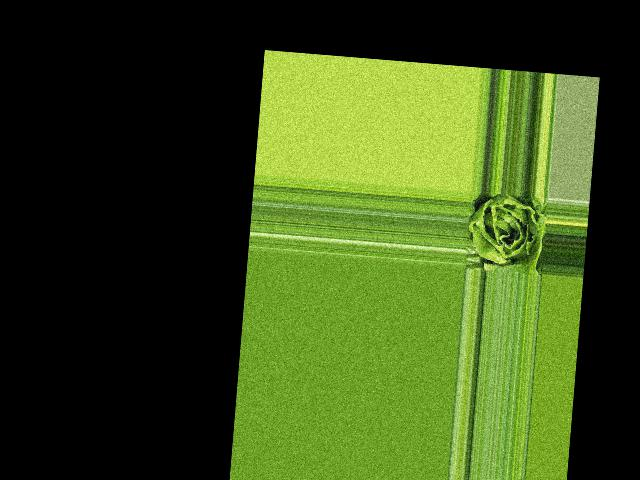lettuce: (465, 192, 547, 275)
